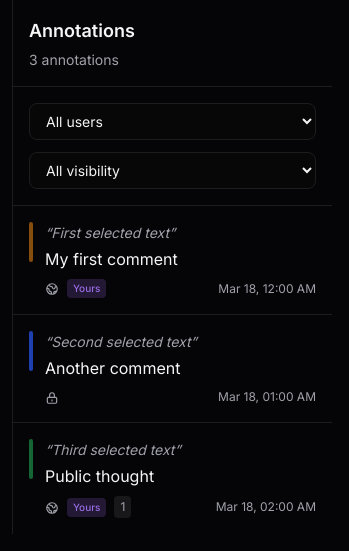
Test: AnnotationSidebar › Empty State › should display empty state when filters result in no matches
Select "Followers" in the dropdown named "filter by visibility" at (172, 171), box [29,152,316,189]
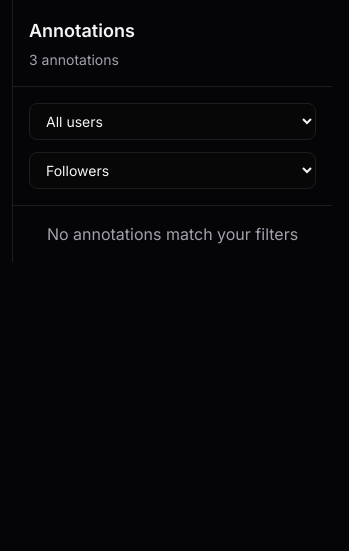
Result: the text "No annotations match your filters" is shown at [29,222,316,246]
